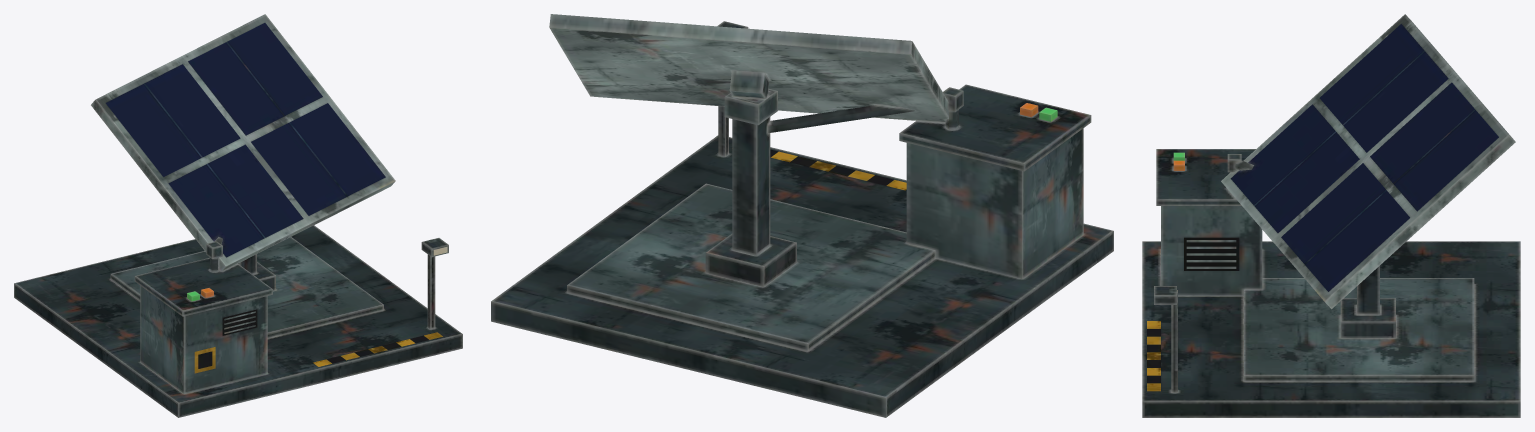
The model's file is solar_panel.glb.
3 renders of one model, left to right at view 1: azimuth 30°, elevation 25°; view 2: azimuth 150°, elevation 25°; view 3: azimuth 270°, elevation 25°, orthographic. The views are drawn at different scales.
Visible parts, largest first — view 1: te_solar_panel, move_panel; view 2: te_solar_panel, move_panel; view 3: te_solar_panel, move_panel.
Part boxes in pixels (x1,y1,x2,y2): te_solar_panel: [14, 225, 462, 417]; move_panel: [91, 14, 395, 271]; te_solar_panel: [491, 21, 1113, 417]; move_panel: [549, 14, 948, 122]; te_solar_panel: [1142, 149, 1520, 417]; move_panel: [1221, 14, 1515, 309].
Bounding box in the file's own units: 0.8555 × 0.6261 × 0.82.
1 material, 1 textured.
